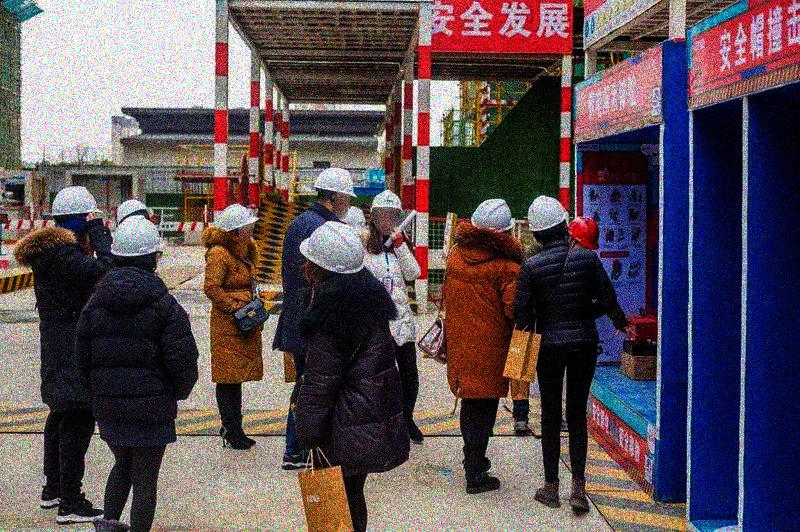helmet: (298, 222, 367, 283), (108, 215, 168, 275), (50, 185, 102, 236), (313, 166, 357, 217), (529, 193, 571, 245), (215, 203, 261, 246), (471, 199, 519, 240), (370, 188, 406, 236), (114, 197, 156, 227), (568, 214, 601, 252)
